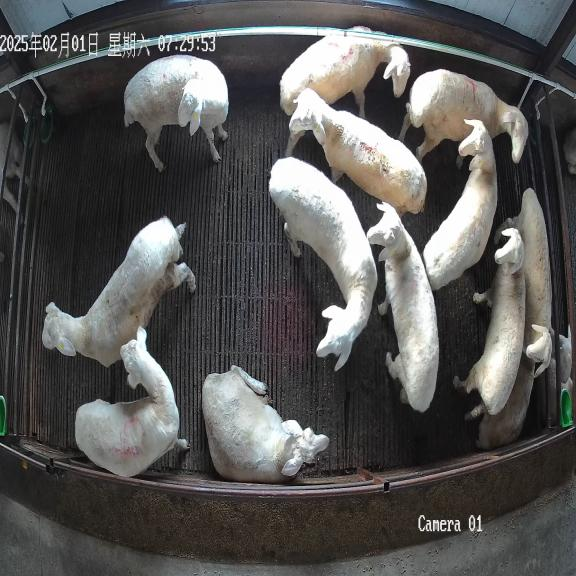lying: (202, 366, 329, 484), (477, 354, 534, 449)
stand: (269, 157, 377, 371), (42, 217, 196, 366), (289, 89, 427, 215), (75, 329, 189, 477), (367, 202, 439, 412), (453, 227, 526, 420), (423, 120, 497, 290), (124, 55, 229, 172), (398, 69, 528, 162), (280, 26, 410, 118), (496, 188, 552, 377)
